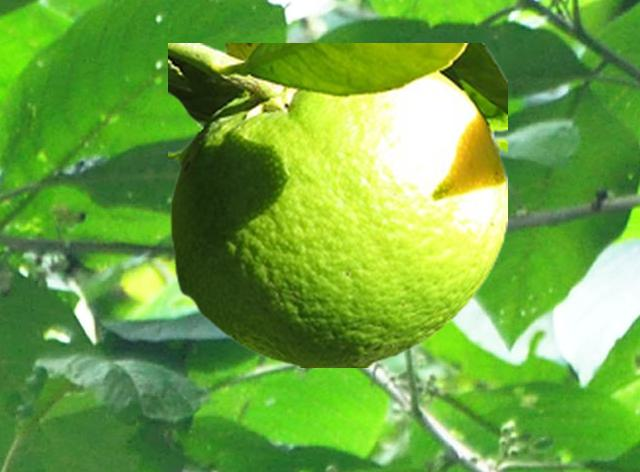dalandan: (168, 43, 506, 366)
